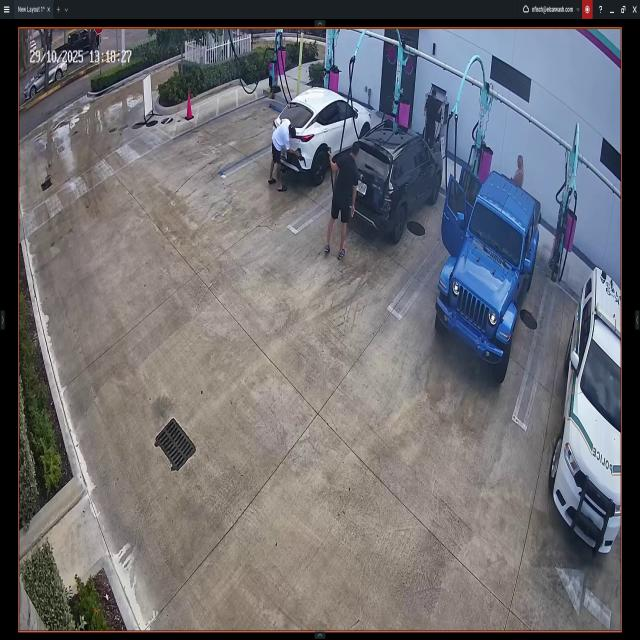Car: (435, 163, 541, 384), (551, 268, 621, 556), (344, 123, 442, 236), (276, 88, 371, 190)
